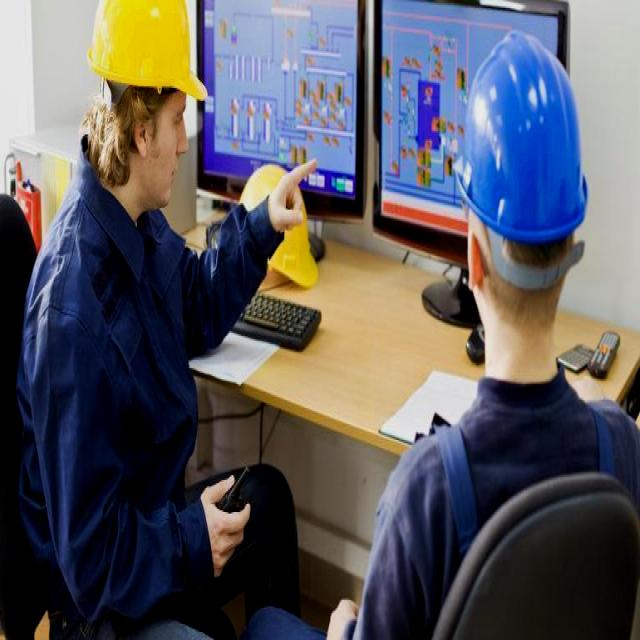face_nomask: (128, 91, 194, 203)
hand_noglove: (194, 458, 262, 582), (270, 149, 325, 251)
head_helmet: (441, 24, 595, 234), (72, 2, 218, 107)
person: (338, 17, 639, 628), (23, 1, 286, 618)
